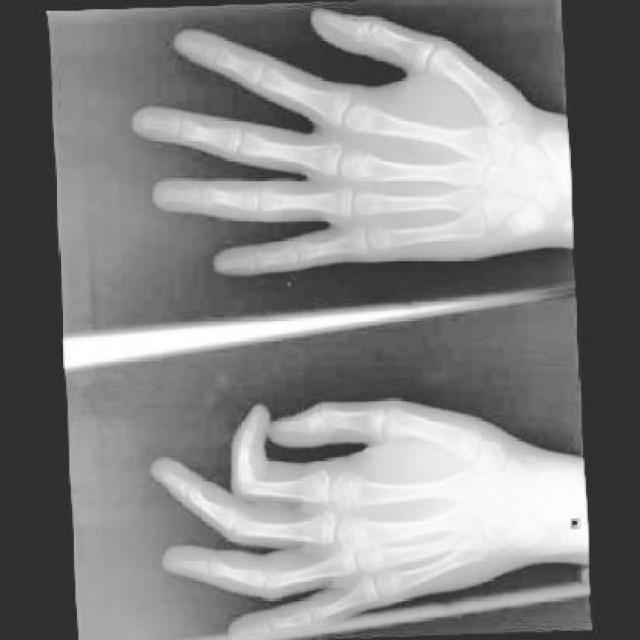Fracture: (200, 183, 220, 208), (208, 558, 222, 577)
